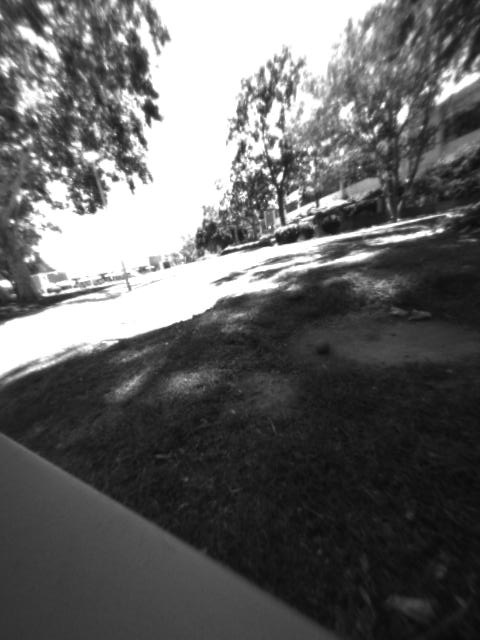dogtoy: (308, 332, 340, 364)
